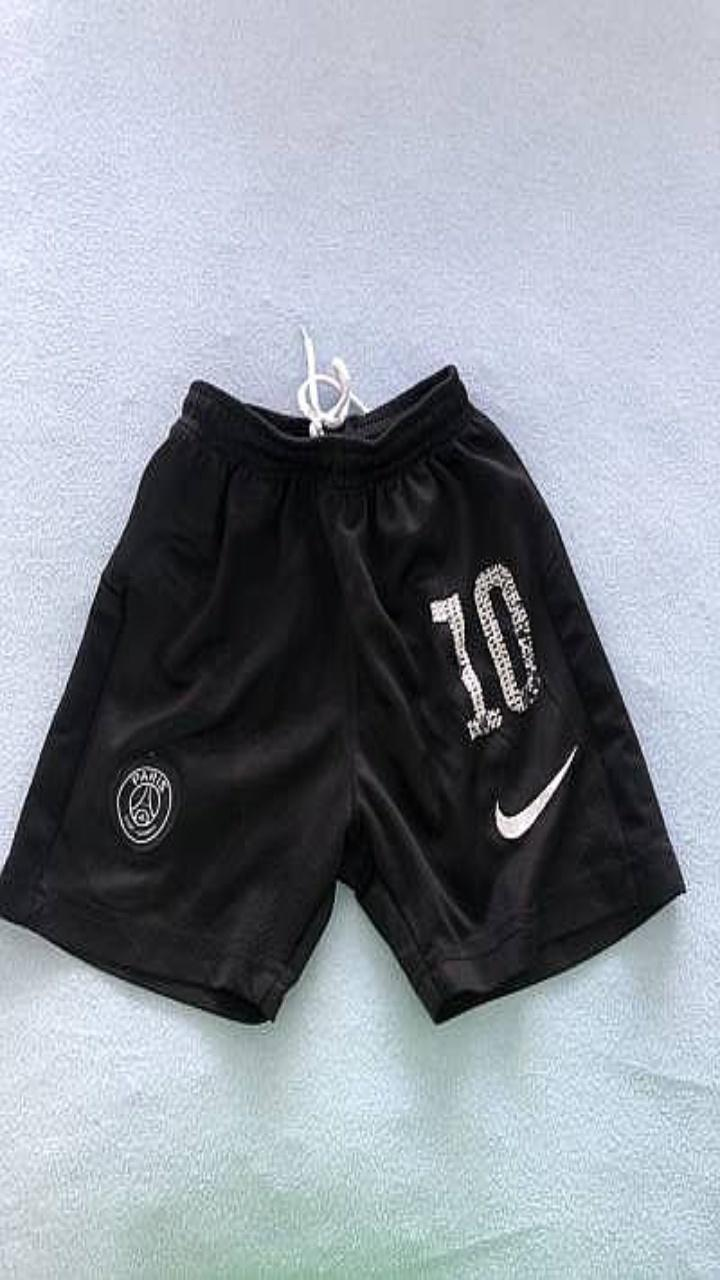Shorts: (0, 365, 684, 1022)
